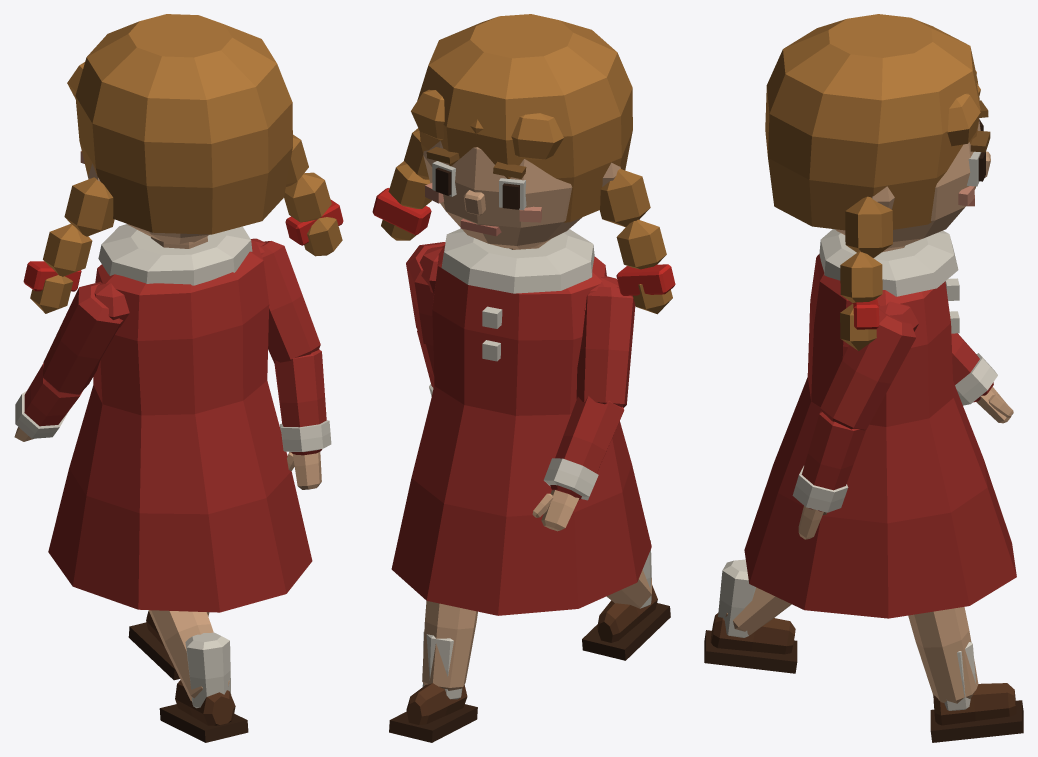
Rendered from chr_leni_w2.glb.
3 renders of one model, left to right at view 1: azimuth 30°, elevation 25°; view 2: azimuth 150°, elevation 25°; view 3: azimuth 270°, elevation 25°, orthographic.
Parts seen in each view (by area): view 1: chr_leni_w2; view 2: chr_leni_w2; view 3: chr_leni_w2.
Boxes of the visible parts, x1,y1,x2,y2 form: chr_leni_w2: (14,14,343,742); chr_leni_w2: (372,14,675,742); chr_leni_w2: (704,14,1023,742).
Bounding box in the file's own units: 0.4973 × 1.05 × 0.4493.
